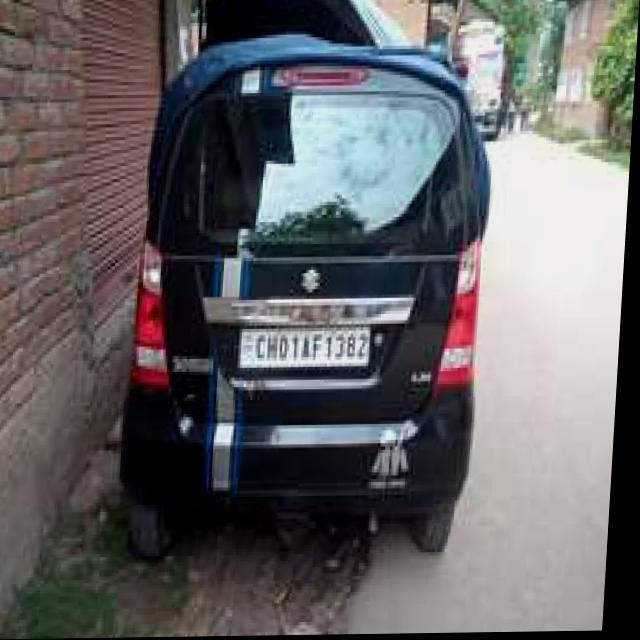plate: (242, 322, 377, 367)
